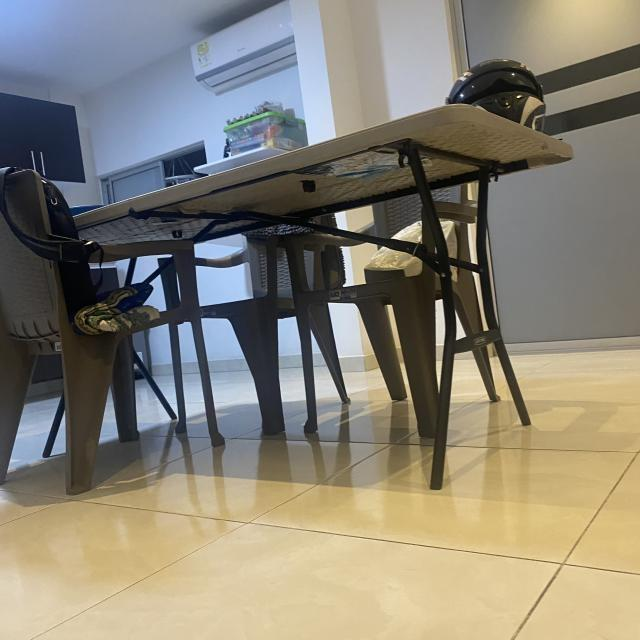obstacle: (22, 74, 567, 468)
